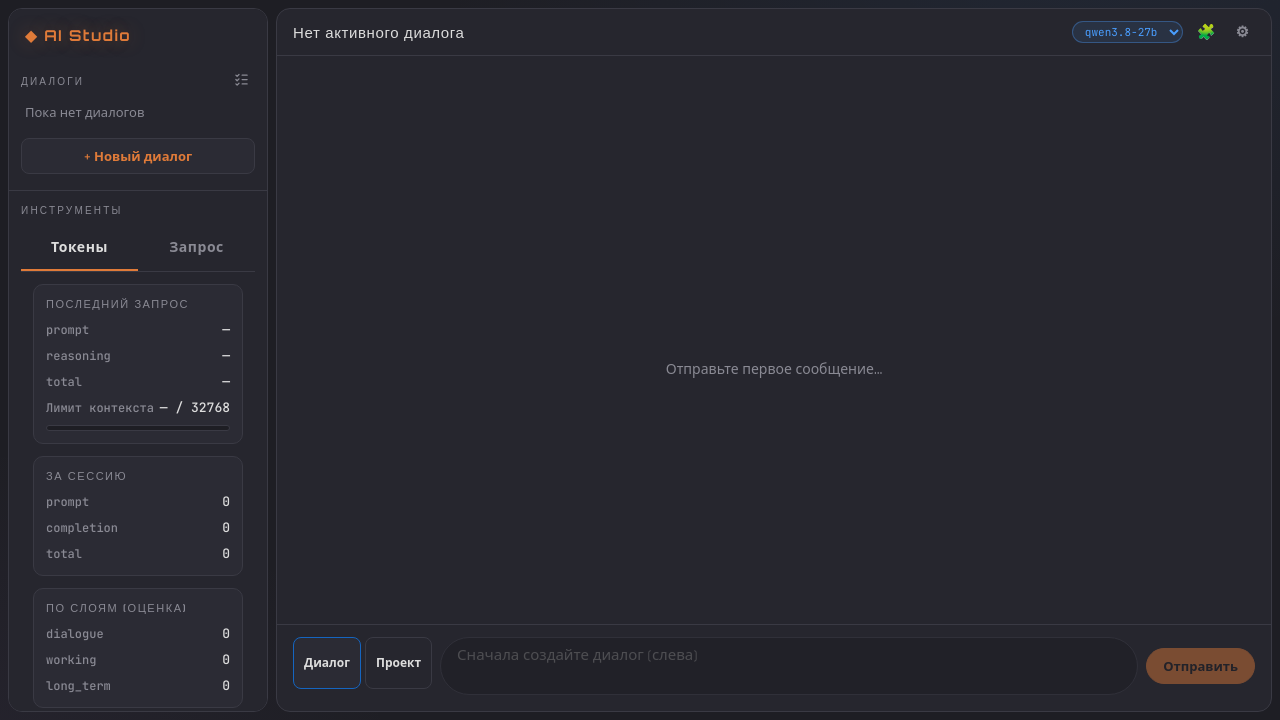
MCP overlay — открытие и закрытие › клик по «🧩» → overlay открывается (McpTab виден); «×» закрывает; настройки при этом закрыты
The width and height of the screenshot is (1280, 720).
Click the button named "MCP". click: coordinates (1206, 32)
box: [1191,22,1222,42]
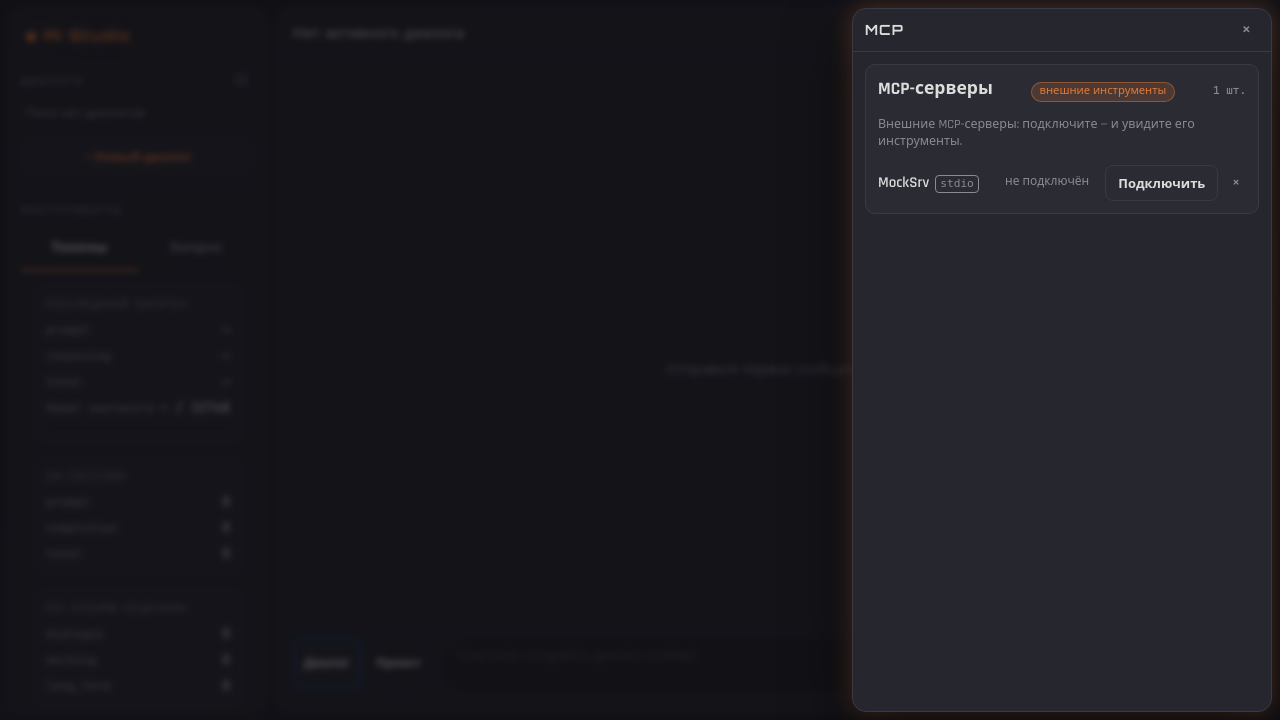
expect the dialog "MCP" is shown: met, box [852,8,1272,712]
expect the heading "MCP-серверы" is shown: met, box [878,77,993,102]
expect the text "MockSrv" is shown: met, box [878,172,929,193]
Click the button named "Закрыть MCP". click: coordinates (1246, 30)
box: [1234,17,1259,43]
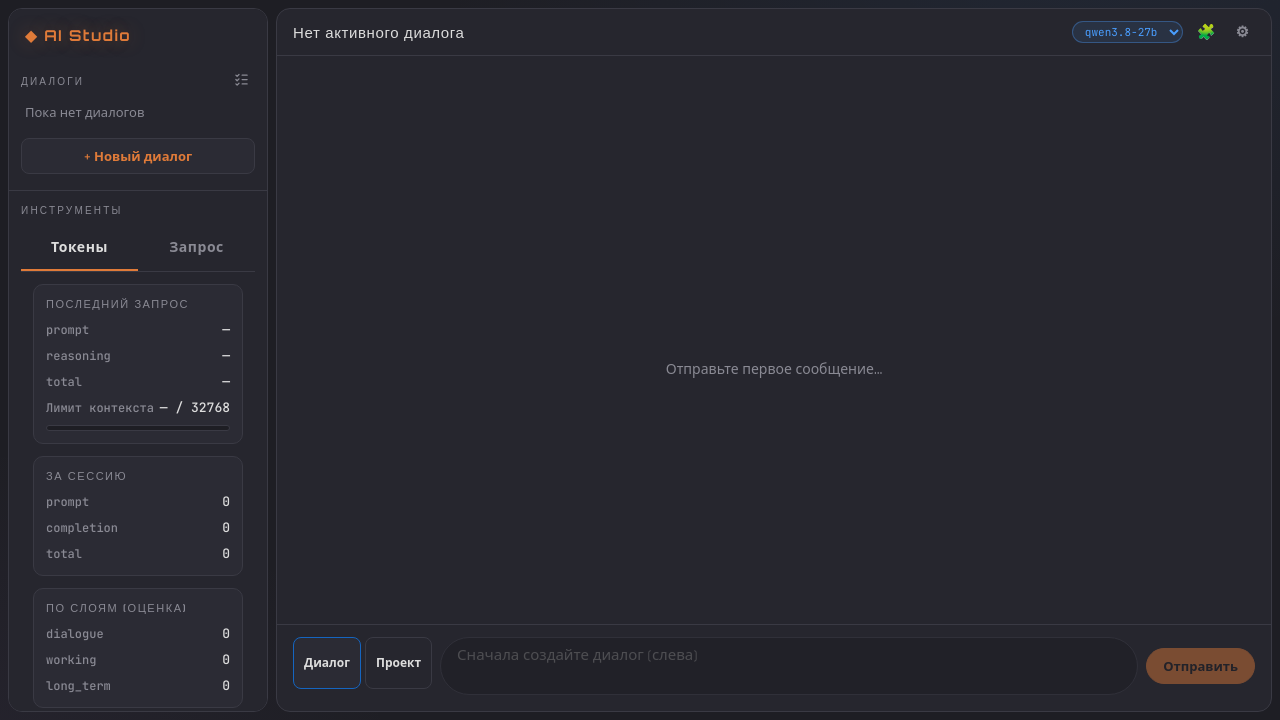
expect the heading "MCP" is gone: met
expect the heading "MCP-серверы" is gone: met
Note: повторный клик по «🧩» — снова открывает (toggle)
Click the button named "MCP". click: coordinates (1206, 32)
box: [1191,22,1222,42]
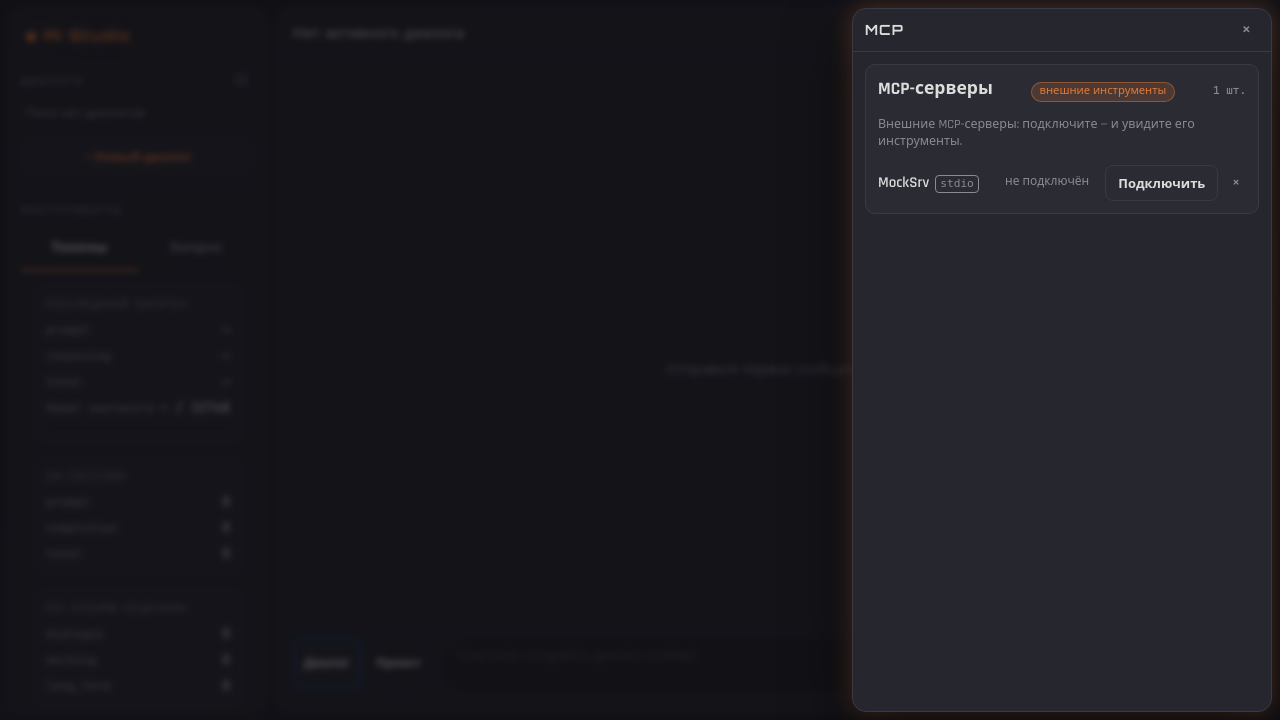
expect the text "MockSrv" is shown: met, box [878,172,929,193]
